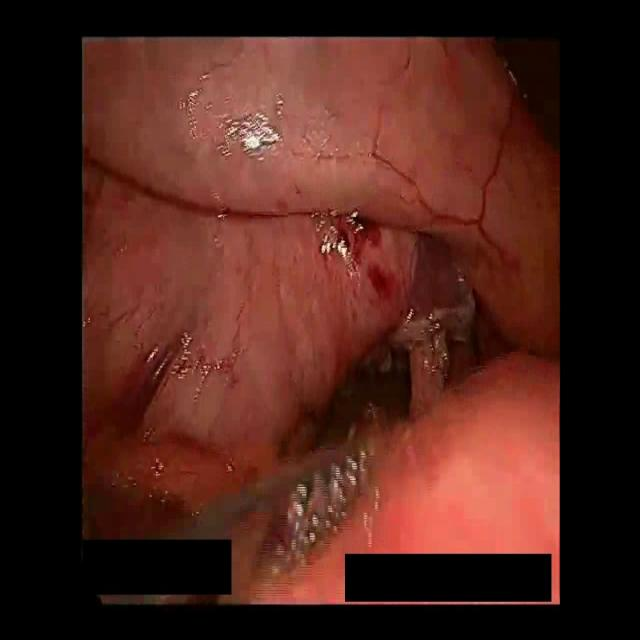surgical-area: (82, 39, 558, 604)
